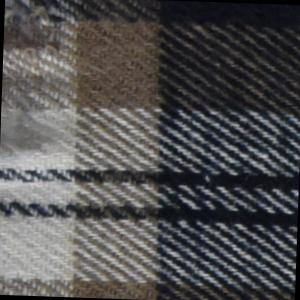Damage: (1, 1, 80, 159)
